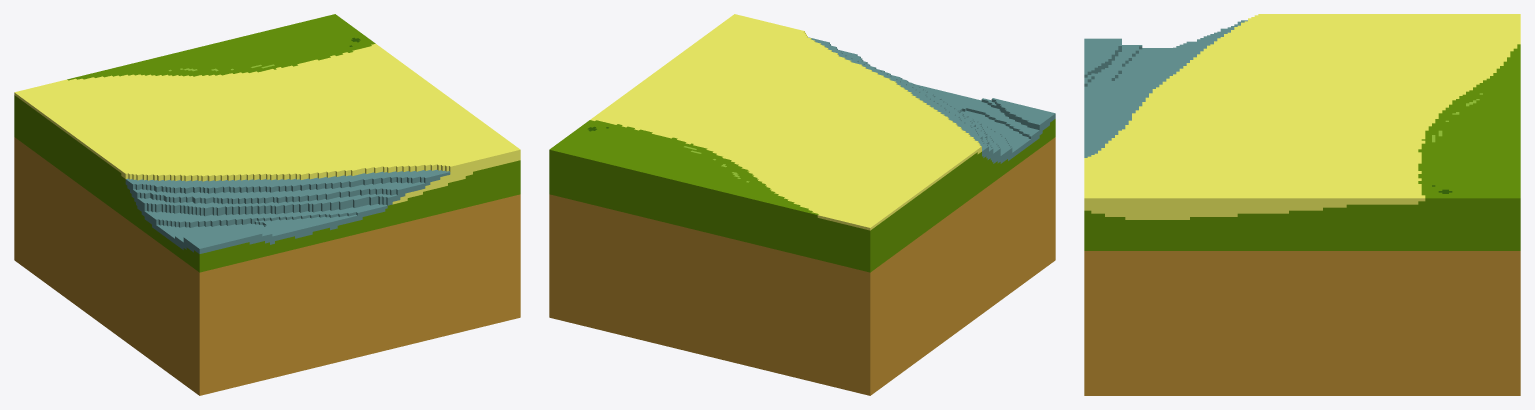
3 renders of one model, left to right at view 1: azimuth 30°, elevation 25°; view 2: azimuth 150°, elevation 25°; view 3: azimuth 270°, elevation 25°, orthographic. The views are drawn at different scales.
Visible parts, largest first — view 1: 12J; view 2: 12J; view 3: 12J.
Part boxes in pixels (x1,y1,x2,y2): 12J: (14,14,520,395); 12J: (549,14,1055,395); 12J: (1084,14,1520,395).
Bounding box in the file's own units: 12.8 × 6.4 × 12.8.
1 material, 1 textured.
